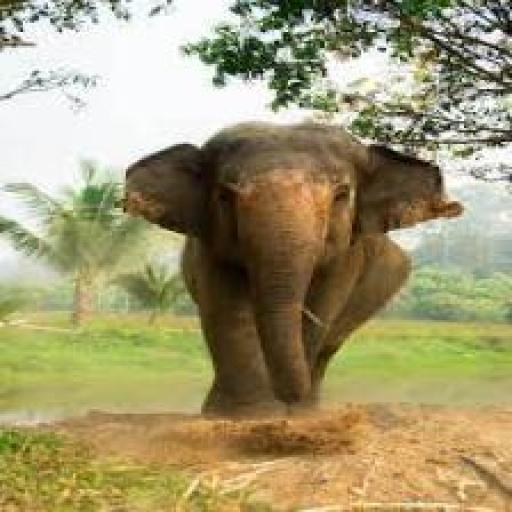Elephant: (71, 85, 500, 457)
